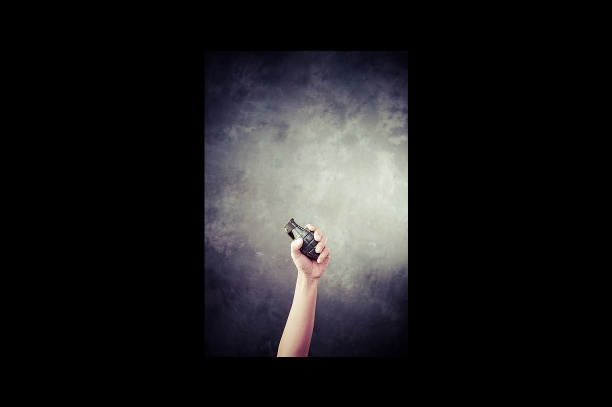e1: (280, 214, 323, 263)
